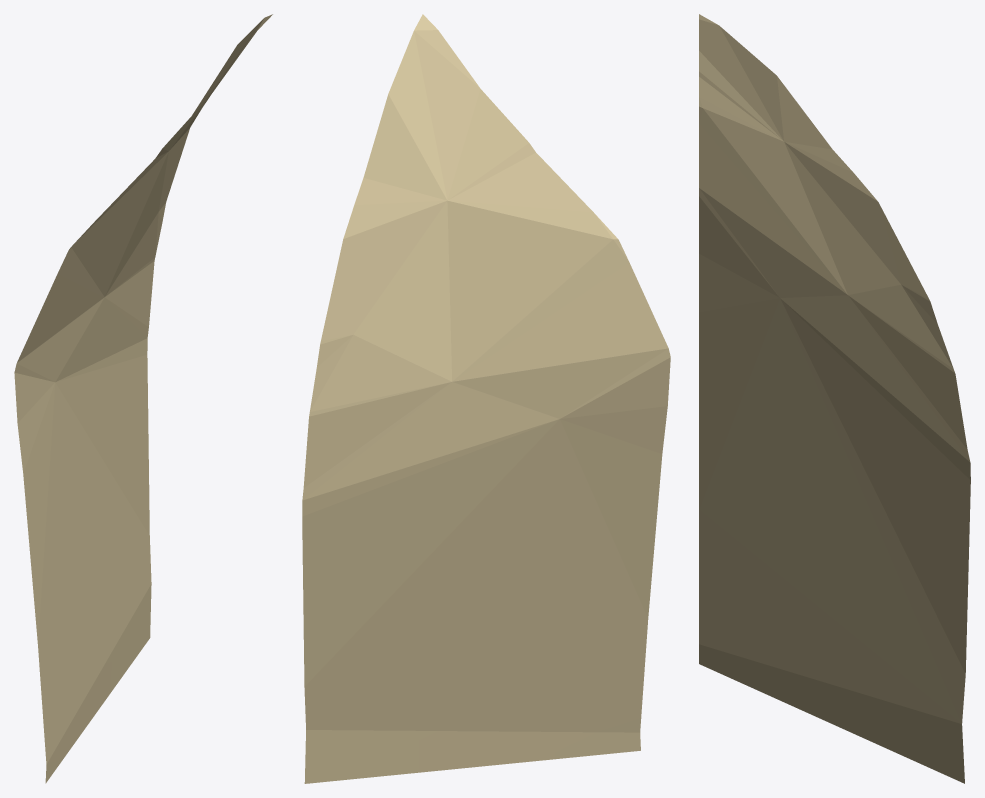
Rendered from bisect-5-3-2.gltf.
3 renders of one model, left to right at view 1: azimuth 30°, elevation 25°; view 2: azimuth 150°, elevation 25°; view 3: azimuth 270°, elevation 25°, orthographic. The views are drawn at different scales.
Parts seen in each view (by area): view 1: bisect-5-3-2; view 2: bisect-5-3-2; view 3: bisect-5-3-2.
Part boxes in pixels (x1,y1,x2,y2): bisect-5-3-2: (14, 14, 272, 783); bisect-5-3-2: (302, 14, 670, 783); bisect-5-3-2: (699, 14, 970, 783).
Size of the model in its own units: 6.73 by 17.72 by 5.67.
